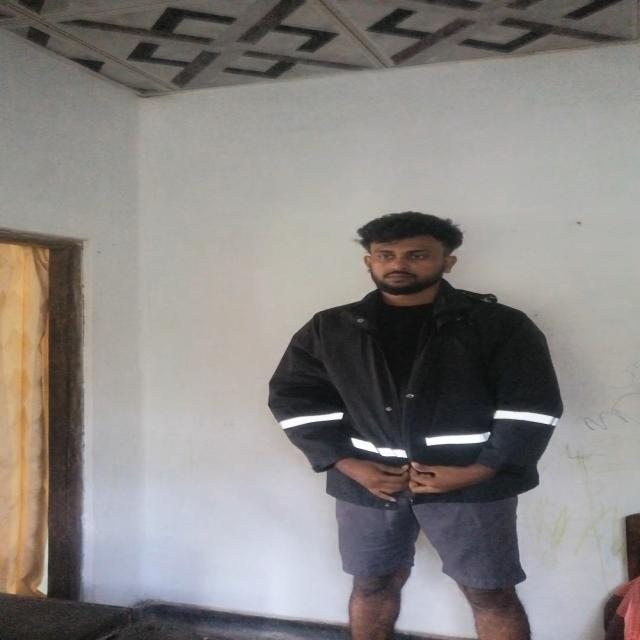Jacket_Wearer: (259, 279, 575, 507)
